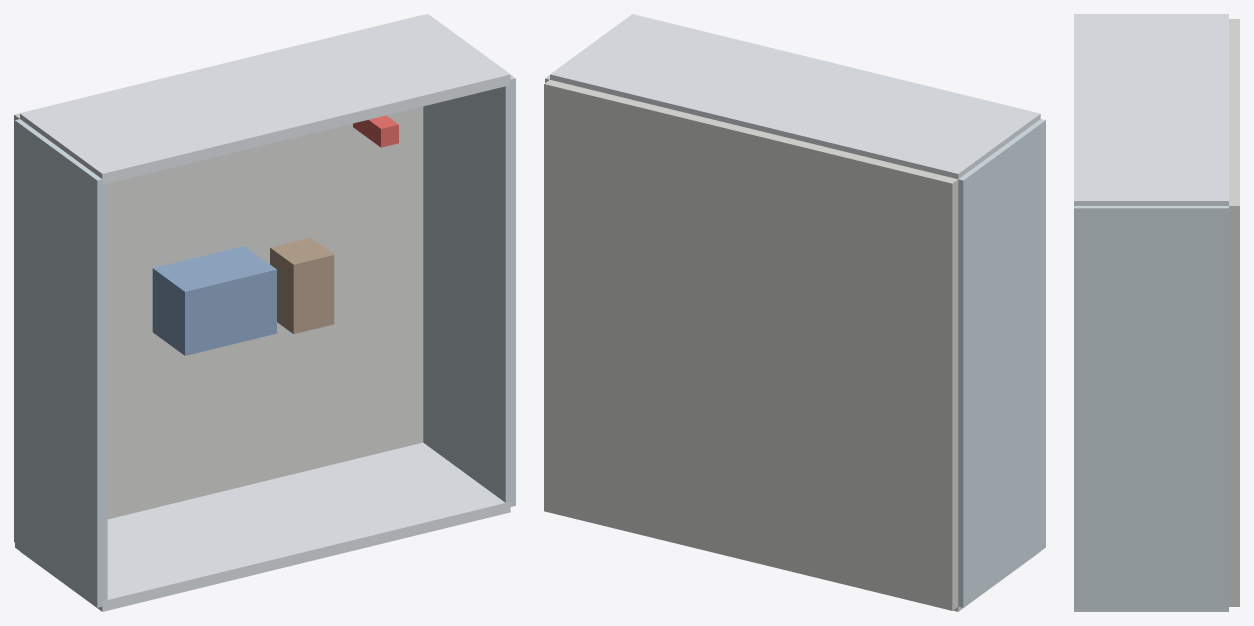
File: sample_room.glb
The picture shows the model from 3 angles, left to right: view 1: azimuth 30°, elevation 25°; view 2: azimuth 150°, elevation 25°; view 3: azimuth 270°, elevation 25°; orthographic projection. The views are drawn at different scales.
Visible parts, largest first — view 1: part_0, part_3, part_1, part_4, part_2, part_5, part_6, part_7; view 2: part_0, part_3, part_1; view 3: part_4, part_1, part_0, part_2.
Part boxes in pixels (x1,y1,x2,y2): part_0: [14, 15, 423, 542]; part_3: [15, 119, 107, 607]; part_1: [20, 14, 510, 184]; part_4: [423, 75, 515, 506]; part_2: [20, 442, 510, 611]; part_5: [152, 246, 276, 355]; part_6: [270, 237, 334, 333]; part_7: [353, 115, 398, 147]; part_0: [544, 80, 958, 610]; part_3: [958, 119, 1045, 607]; part_1: [550, 14, 1040, 179]; part_4: [1074, 206, 1228, 609]; part_1: [1074, 14, 1228, 205]; part_0: [1229, 19, 1239, 606]; part_2: [1074, 609, 1228, 611].
Bounding box in the file's own units: 8.2 × 8.2 × 3.
